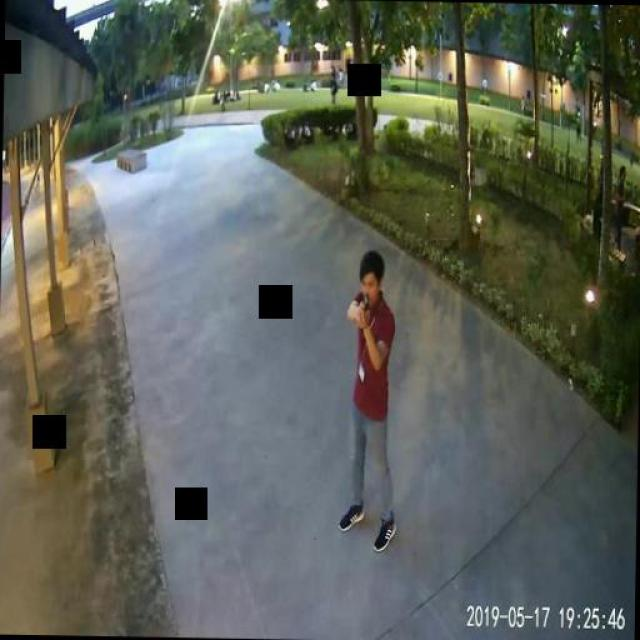gun: (358, 288, 368, 322)
